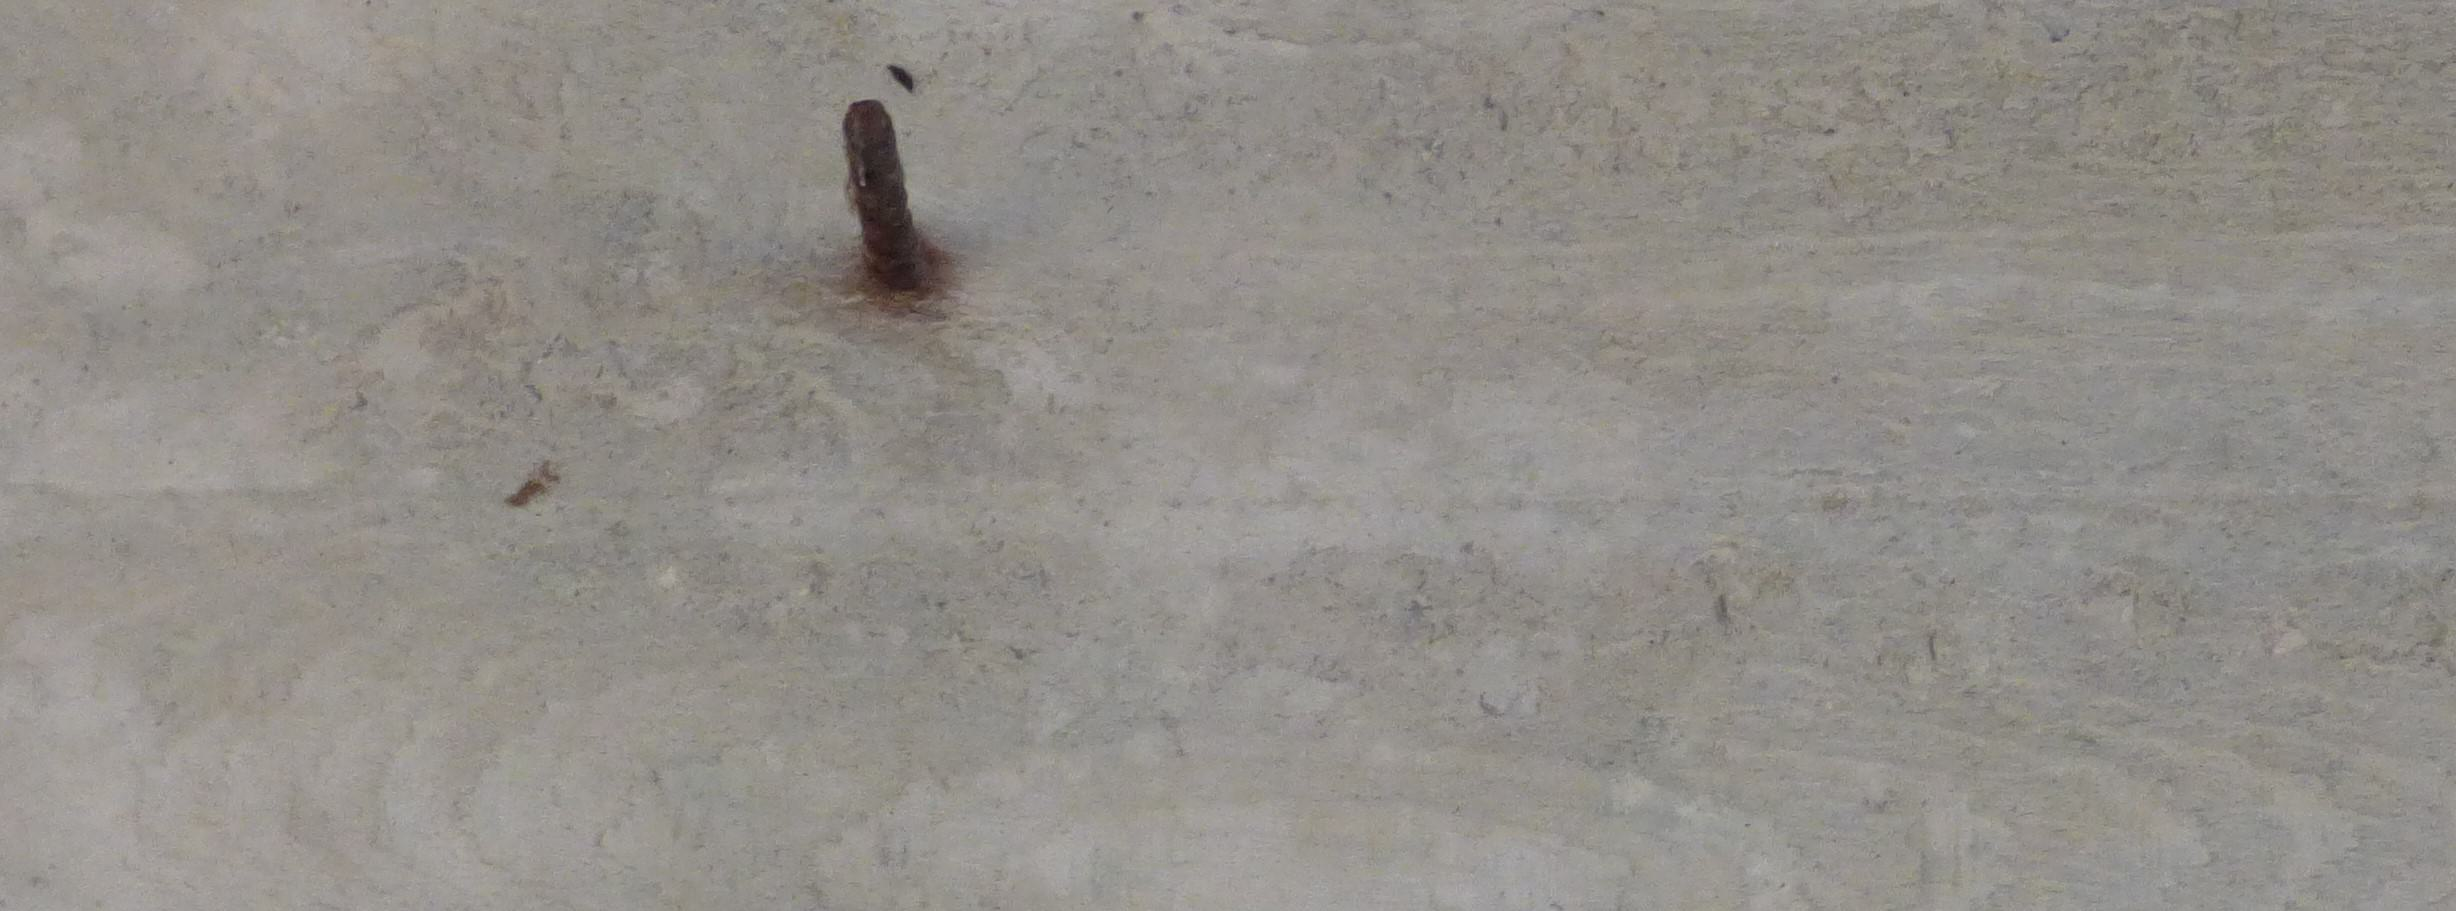Exposed reinforcement: (841, 99, 916, 290)
